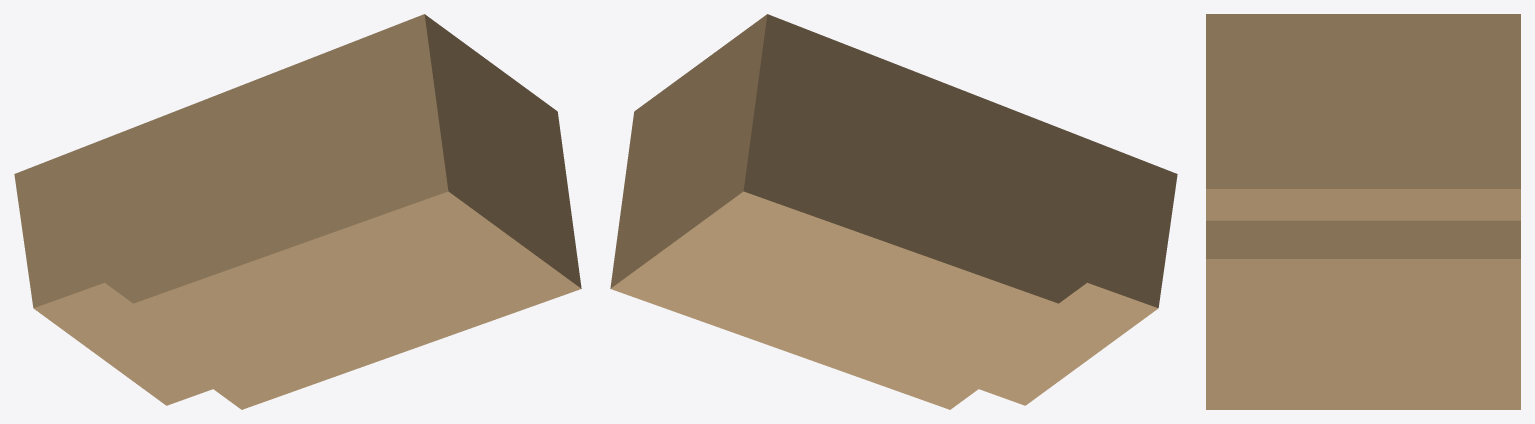
3 views of the same model, side by side, from view 1: azimuth 30°, elevation 25°; view 2: azimuth 150°, elevation 25°; view 3: azimuth 270°, elevation 25° (orthographic). The views are drawn at different scales.
Visible parts, largest first — view 1: 0_3_0_1_1_2_3_0; view 2: 0_3_0_1_1_2_3_0; view 3: 0_3_0_1_1_2_3_0.
Part boxes in pixels (<box>): 0_3_0_1_1_2_3_0: <box>14,14,581,409</box>; 0_3_0_1_1_2_3_0: <box>610,14,1177,409</box>; 0_3_0_1_1_2_3_0: <box>1206,14,1520,409</box>.
Size of the model in its own units: 45.15 by 22 by 24.
